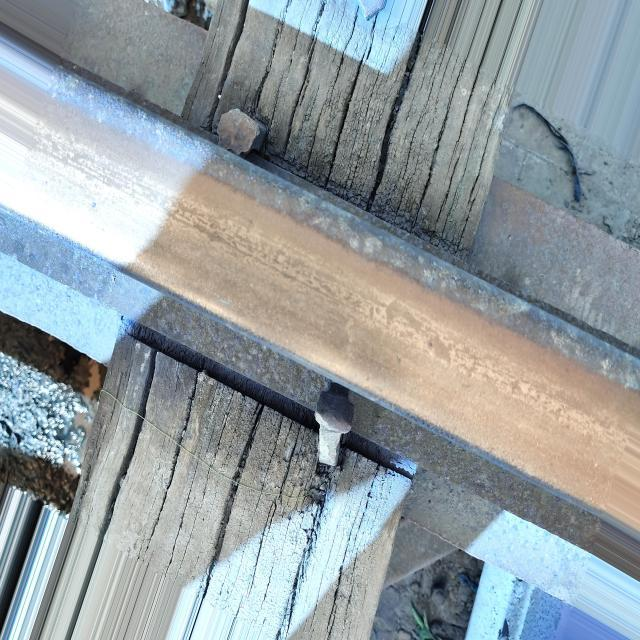Good Fasteners: (315, 384, 354, 467), (217, 108, 266, 155)
